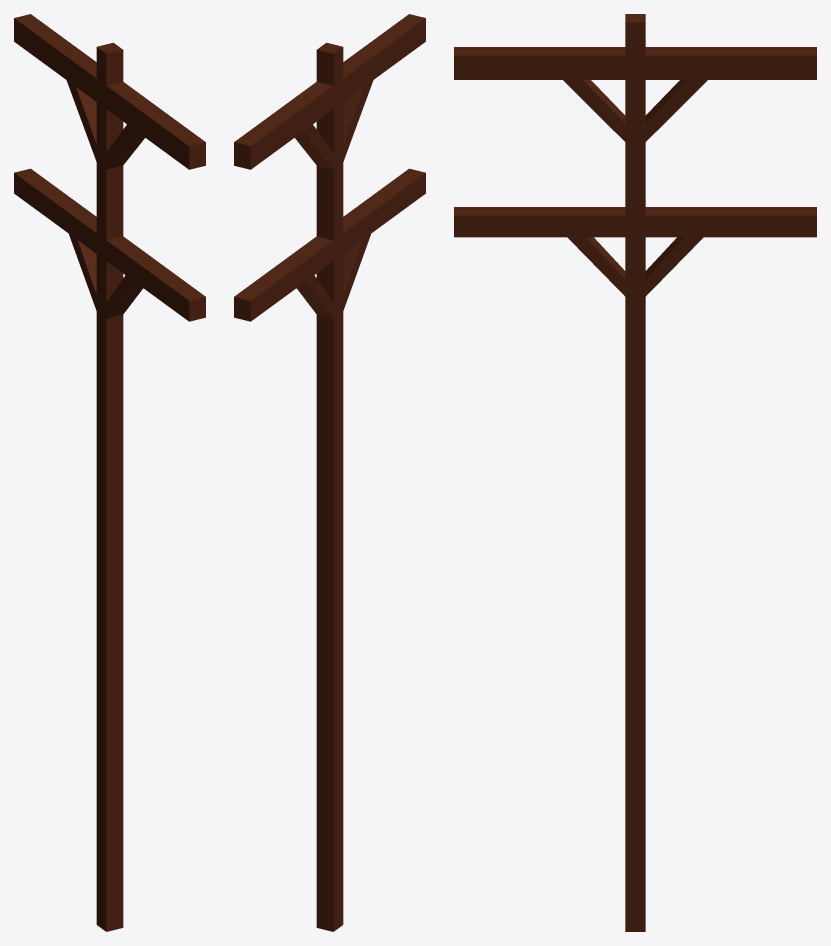
File: TelephonePole.fbx
3 views of the same model, side by side, from view 1: azimuth 30°, elevation 25°; view 2: azimuth 150°, elevation 25°; view 3: azimuth 270°, elevation 25° (orthographic). The views are drawn at different scales.
Parts seen in each view (by area): view 1: Mast; view 2: Mast; view 3: Mast.
Boxes of the visible parts, <box> form: Mast: <box>14,14,205,931</box>; Mast: <box>234,14,425,931</box>; Mast: <box>454,14,816,931</box>.
Bounding box in the file's own units: 31.06 × 1553 × 562.
